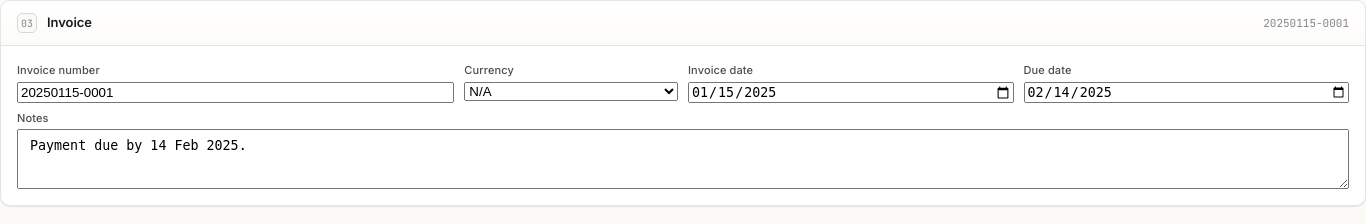
InvoiceDetailsForm › keeps custom payment terms when the date changes
Type "2025-01-29" into the date field labelled "Due date" at (1186, 92), box [1024,82,1349,103]
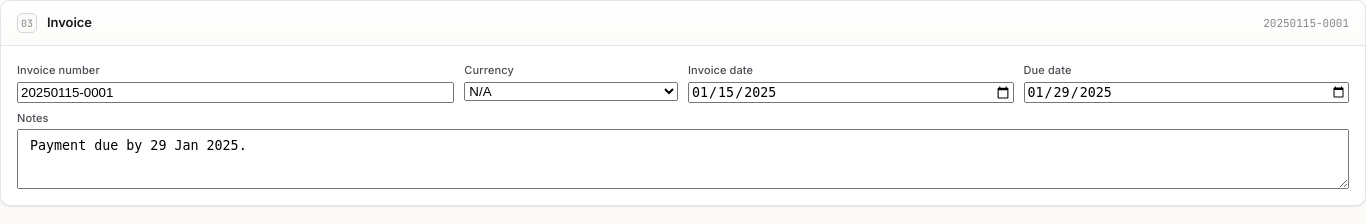
Type "2025-02-01" into the date field labelled "Invoice date" at (851, 92), box [688,82,1014,103]
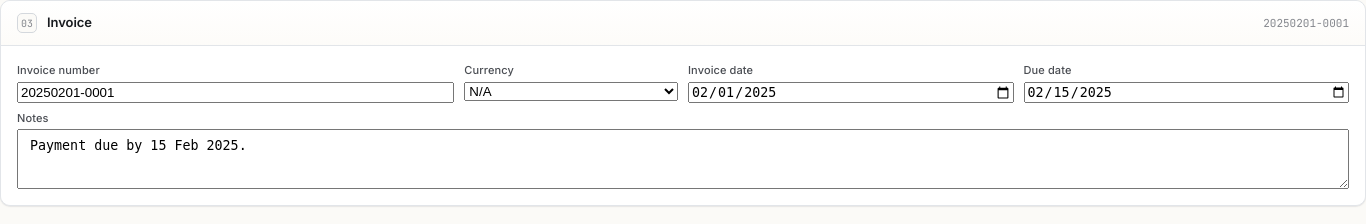
Check: the date field labelled "Due date" holds "2025-02-15", box [1024,82,1349,103]
Check: the text box labelled "Notes" holds "Payment due by 15 Feb 2025.", box [17,129,1349,189]
